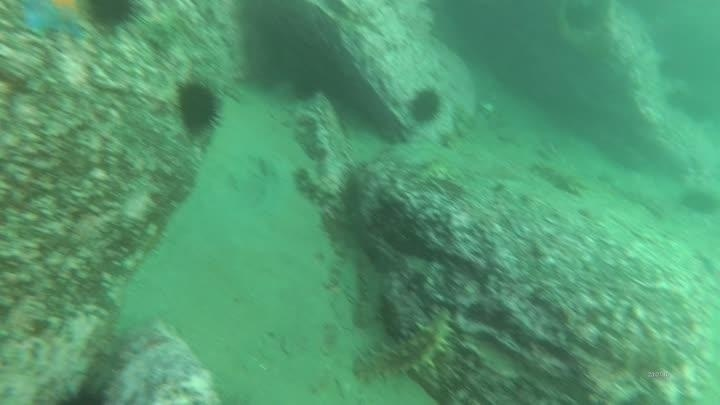echinus: (173, 78, 224, 137), (80, 1, 147, 35), (407, 85, 445, 126), (678, 186, 719, 218)
holothurian: (351, 306, 460, 385), (529, 155, 589, 198)
starfish: (16, 1, 94, 43)
